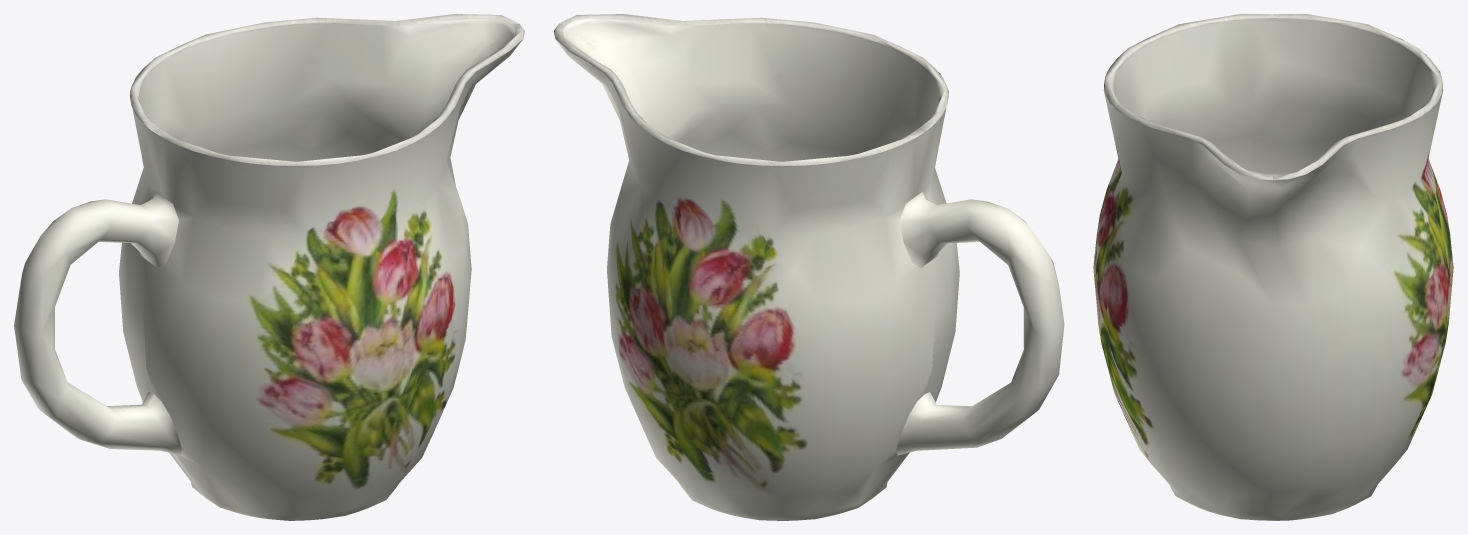
File: ph_jug.glb
3 views of the same model, side by side, from view 1: azimuth 30°, elevation 25°; view 2: azimuth 150°, elevation 25°; view 3: azimuth 270°, elevation 25° (orthographic). The views are drawn at different scales.
Visible parts, largest first — view 1: jug_01; view 2: jug_01; view 3: jug_01.
Part boxes in pixels (x1,y1,x2,y2): jug_01: (14,14,524,520); jug_01: (553,14,1064,520); jug_01: (1093,14,1453,520).
Bounding box in the file's own units: 0.276 × 0.2112 × 0.1679.
Materials: 1 (1 with a texture image).
